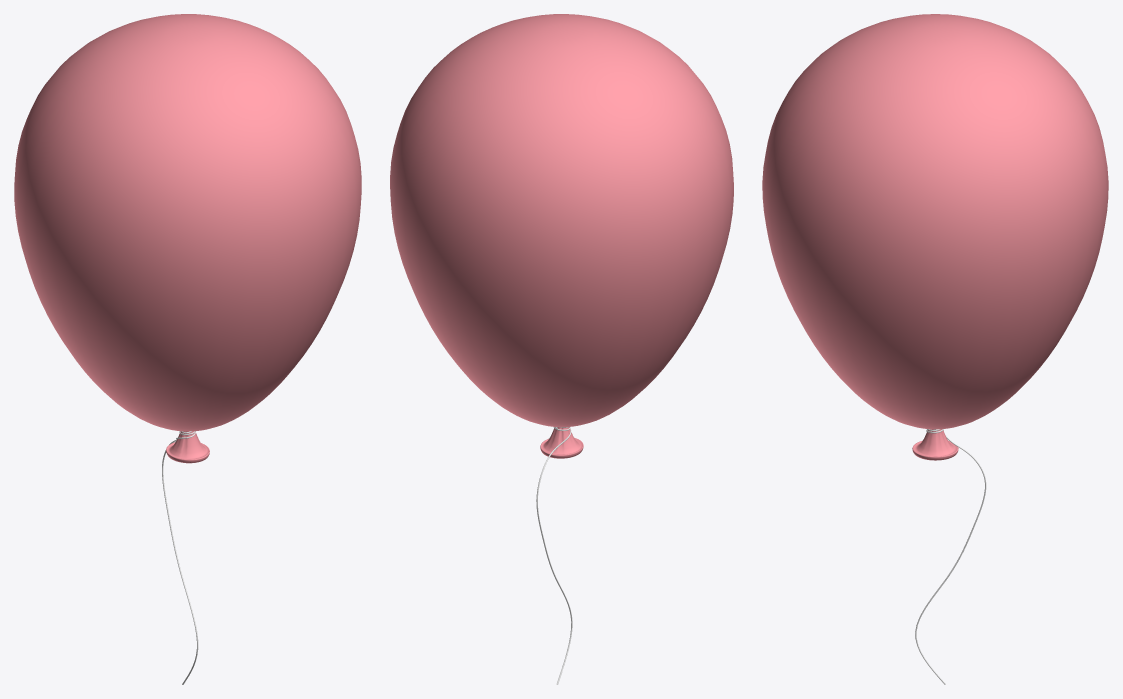
Rendered from Balloon.gltf.
3 views of the same model, side by side, from view 1: azimuth 30°, elevation 25°; view 2: azimuth 150°, elevation 25°; view 3: azimuth 270°, elevation 25° (orthographic).
Parts seen in each view (by area): view 1: Balloon, String1; view 2: Balloon, String1; view 3: Balloon, String1.
Boxes of the visible parts, left/top/right/bottom form: Balloon: left=14, top=14, right=361, bottom=463; String1: left=162, top=431, right=198, bottom=684; Balloon: left=390, top=14, right=733, bottom=458; String1: left=536, top=427, right=572, bottom=684; Balloon: left=762, top=14, right=1108, bottom=460; String1: left=915, top=429, right=986, bottom=684.
Size of the model in its own units: 0.00887 by 0.0185 by 0.00887.
